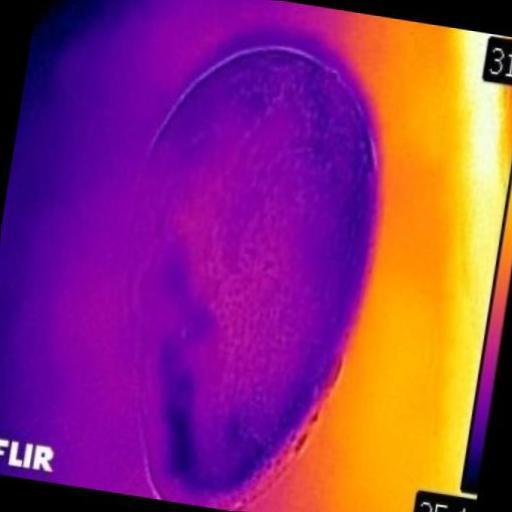alphanso: (133, 47, 376, 505)
